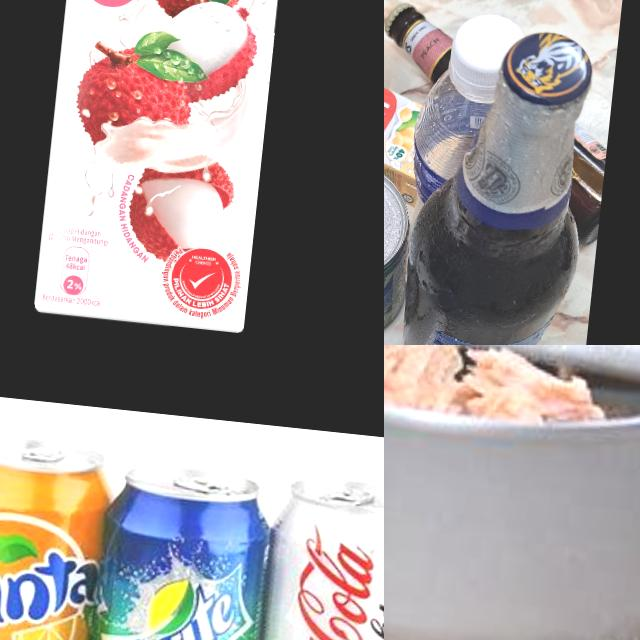aba de lata: (318, 484, 376, 509), (174, 474, 232, 495), (24, 442, 64, 462)
caixinha: (26, 0, 301, 341), (384, 45, 468, 205)
garrafa de vidro: (395, 31, 593, 345), (384, 1, 619, 233)
garrafa plástica: (406, 66, 534, 243)
lata: (384, 345, 640, 640), (76, 456, 279, 640), (0, 430, 122, 640), (241, 469, 384, 640), (384, 161, 423, 345)
tampa plástica: (444, 8, 529, 104)
